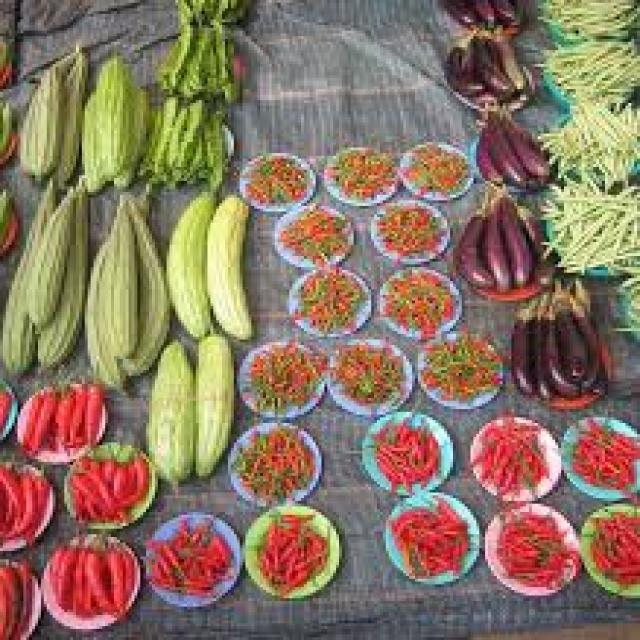organic waste: (85, 181, 149, 392), (35, 175, 91, 362), (0, 178, 47, 370), (544, 178, 637, 270), (541, 95, 637, 175), (126, 192, 166, 381), (143, 334, 193, 484), (94, 192, 140, 353), (23, 181, 73, 320), (15, 48, 70, 172), (163, 192, 210, 337), (149, 523, 234, 596), (190, 334, 231, 479), (388, 501, 468, 573), (541, 36, 637, 95), (474, 414, 546, 492), (234, 426, 312, 498), (202, 192, 242, 331), (242, 342, 324, 409), (418, 328, 500, 395), (252, 512, 322, 587), (368, 414, 438, 482), (488, 178, 529, 292), (497, 514, 564, 582), (330, 339, 400, 404), (380, 267, 450, 331), (292, 267, 360, 328), (570, 418, 634, 482), (526, 292, 564, 395), (105, 86, 146, 181), (538, 292, 576, 390), (512, 203, 556, 287), (47, 42, 73, 178), (587, 509, 637, 579), (374, 200, 441, 250), (99, 53, 126, 175), (327, 148, 392, 198), (283, 206, 342, 261), (497, 106, 546, 172), (561, 292, 593, 392), (535, 0, 637, 31), (242, 153, 304, 203), (479, 111, 523, 181), (138, 92, 178, 167), (76, 451, 117, 523), (552, 286, 584, 378), (403, 142, 462, 189), (474, 25, 512, 92), (479, 195, 506, 286), (456, 211, 488, 284), (3, 467, 35, 540), (24, 387, 56, 448), (79, 89, 99, 186), (82, 531, 105, 615), (202, 106, 225, 189), (508, 300, 529, 390), (175, 100, 202, 170), (444, 39, 482, 86), (473, 123, 502, 178), (0, 559, 20, 637), (50, 381, 73, 448), (494, 25, 520, 84), (0, 464, 23, 528), (102, 545, 123, 615), (70, 470, 105, 512), (468, 84, 529, 108), (120, 448, 143, 509), (161, 106, 184, 164), (29, 473, 47, 545), (15, 560, 32, 634), (67, 543, 85, 612), (20, 392, 44, 442), (82, 384, 102, 442), (67, 381, 85, 445), (432, 0, 473, 25), (620, 275, 637, 334), (567, 276, 593, 314), (53, 540, 67, 609), (67, 484, 96, 515), (114, 456, 131, 501), (102, 454, 120, 487), (546, 398, 594, 409), (120, 546, 128, 606), (47, 546, 58, 582), (491, 0, 514, 17), (0, 100, 9, 142), (476, 0, 493, 22), (0, 39, 12, 67), (0, 186, 6, 231), (0, 387, 6, 423)
